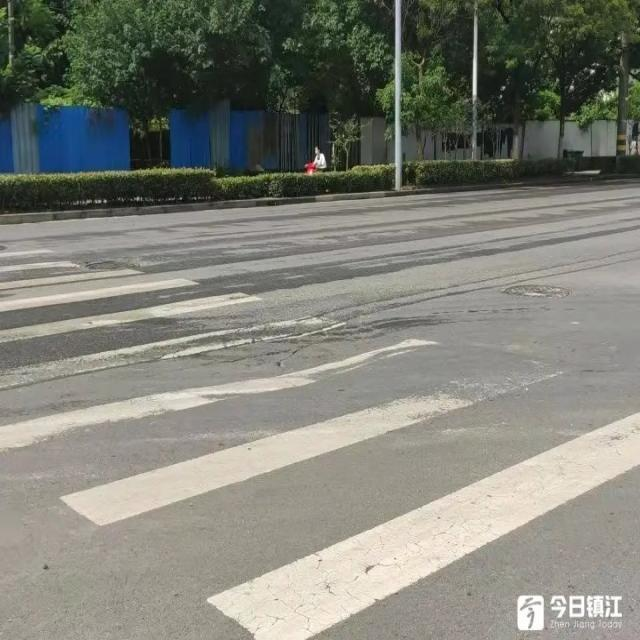pothole: (12, 309, 390, 391), (504, 285, 576, 304)
